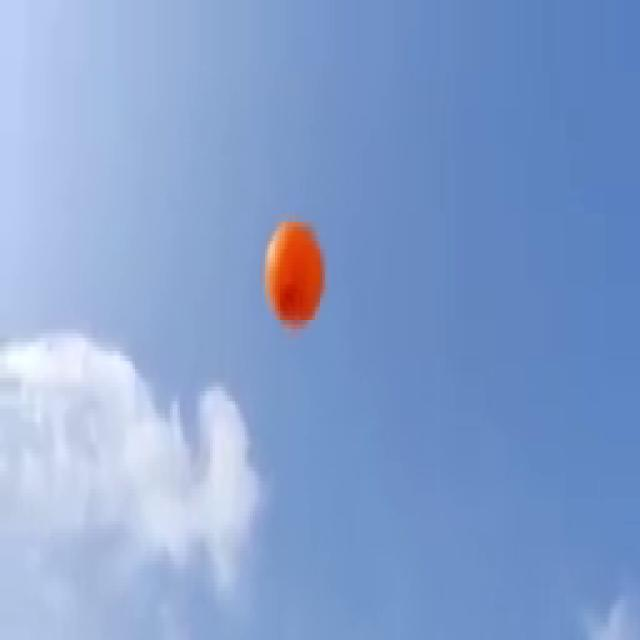red: (263, 219, 325, 330)
